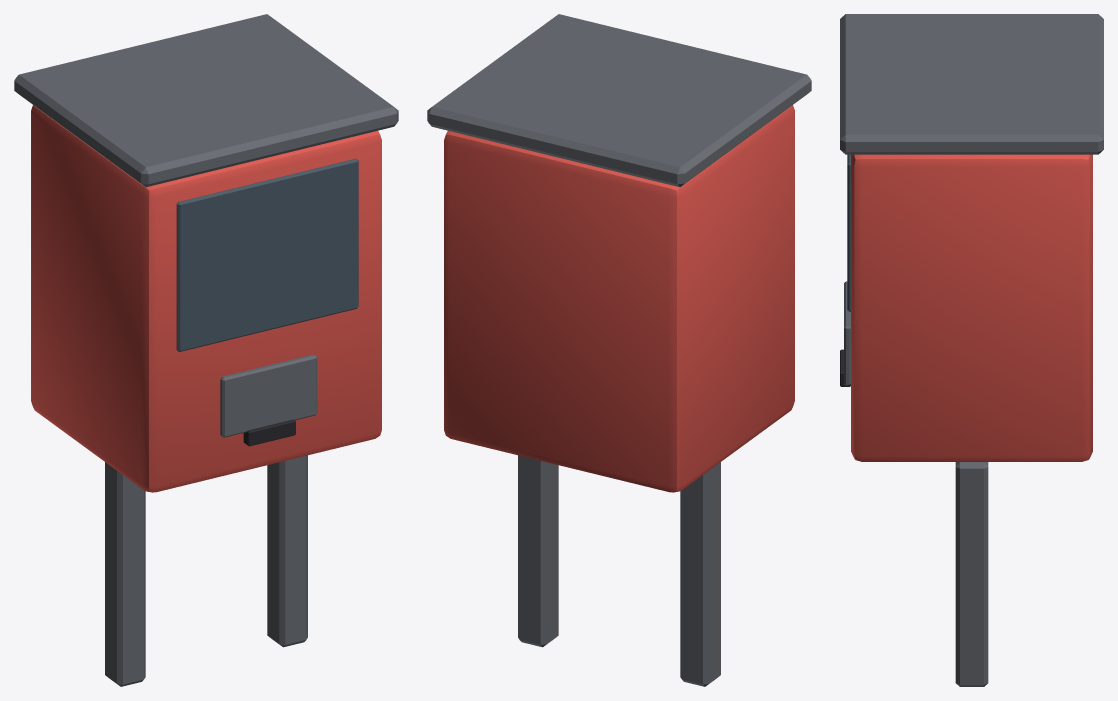
File: NewsBox.fbx
The picture shows the model from 3 angles, left to right: view 1: azimuth 30°, elevation 25°; view 2: azimuth 150°, elevation 25°; view 3: azimuth 270°, elevation 25°; orthographic projection.
Visible parts, largest first — view 1: NewsBox; view 2: NewsBox; view 3: NewsBox.
Part boxes in pixels (bbox=[...]): NewsBox: bbox=[14, 14, 398, 686]; NewsBox: bbox=[427, 14, 811, 686]; NewsBox: bbox=[840, 14, 1103, 686].
Bounding box in the file's own units: 0.54 × 1.14 × 0.48.
